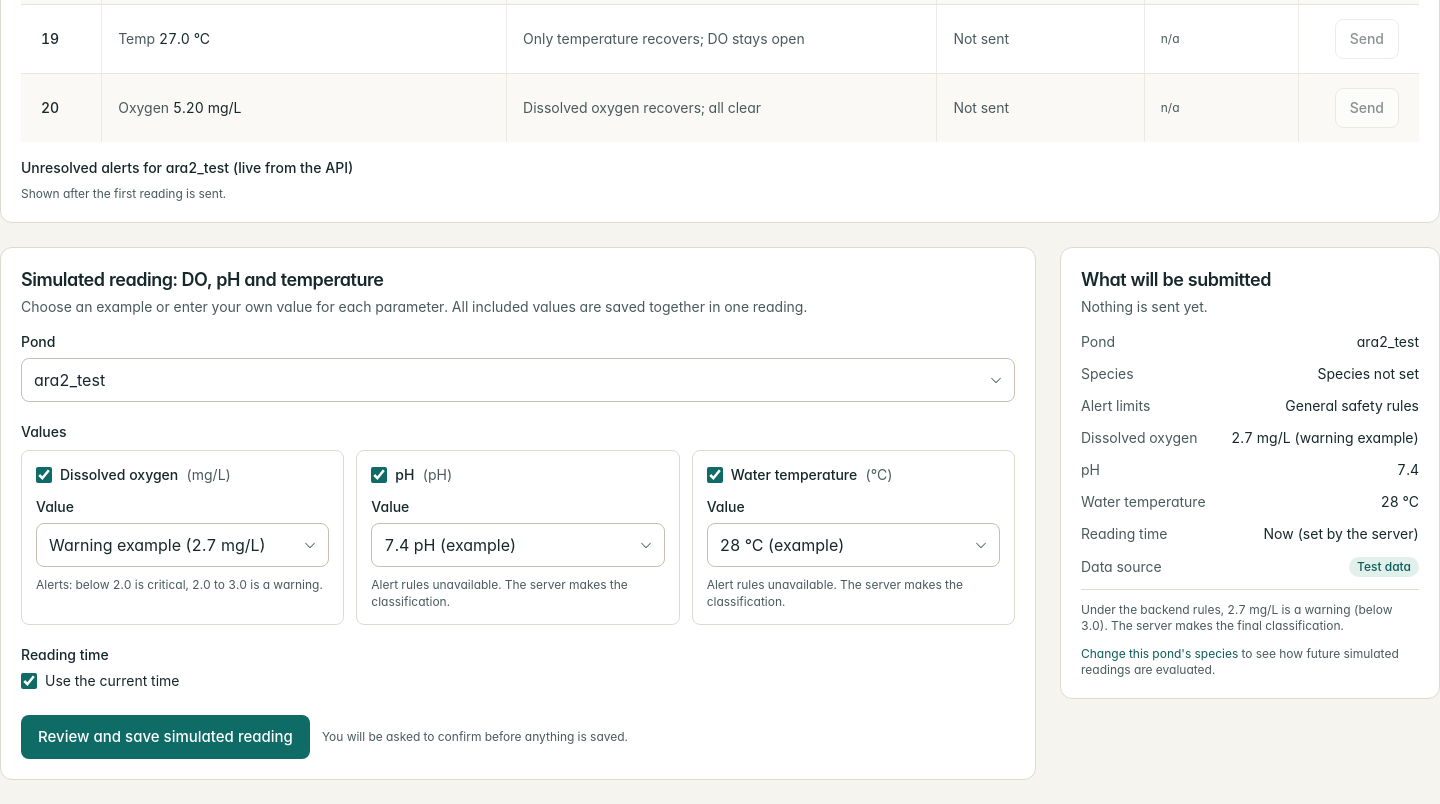
simulation: one reading, three parameters › shows the server's validation errors (HTTP 422) when it rejects a request
(page scrolled)
Expected: the heading "Simulated reading: DO, pH and temperature" is shown, 21,269 -> 384,290
Step 1. Click the button "Review and save simulated reading" → coordinates (165, 737), box 21,715 -> 310,759
(page scrolled)
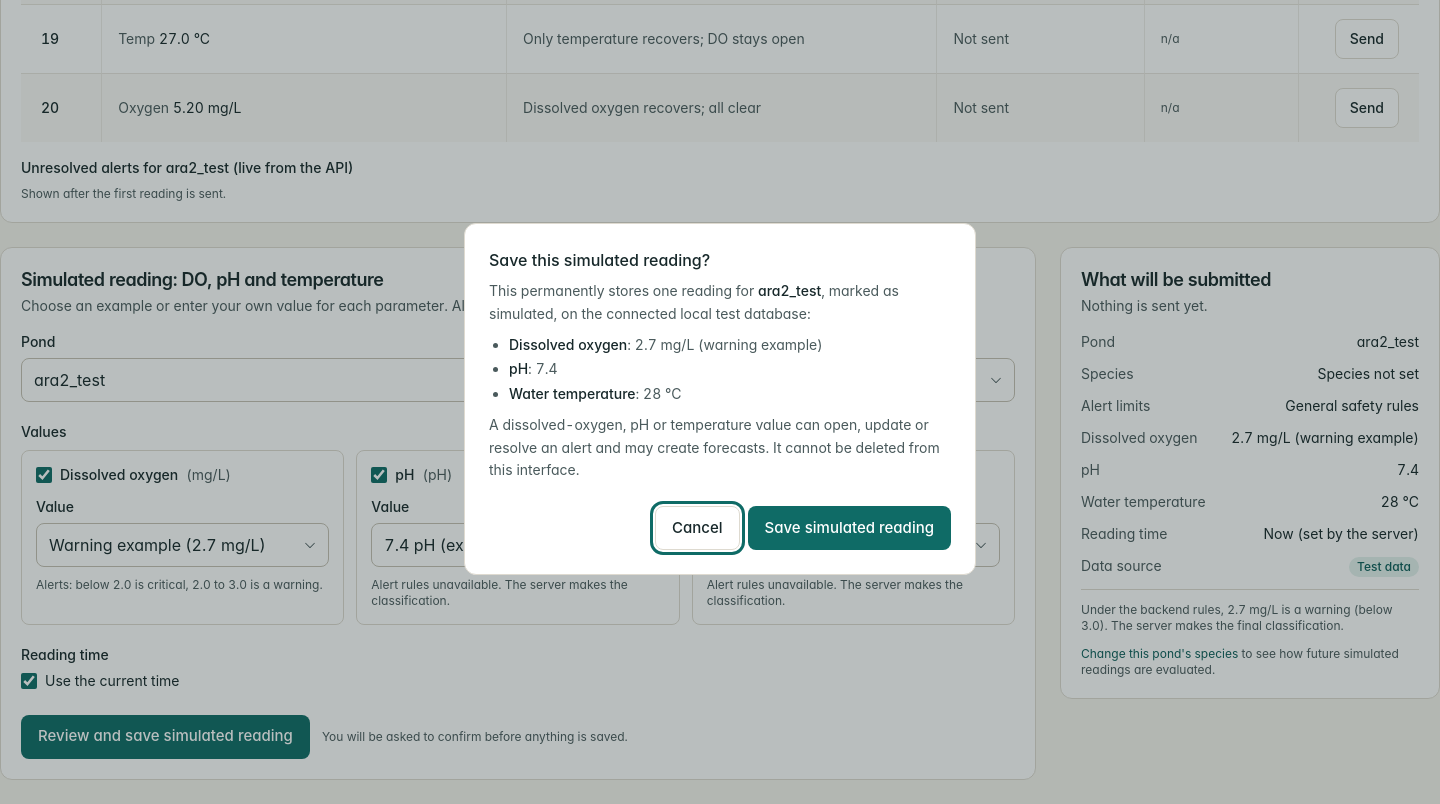
Step 2. Click the button "Save simulated reading" → coordinates (849, 528), box 748,506 -> 951,550
(page scrolled)
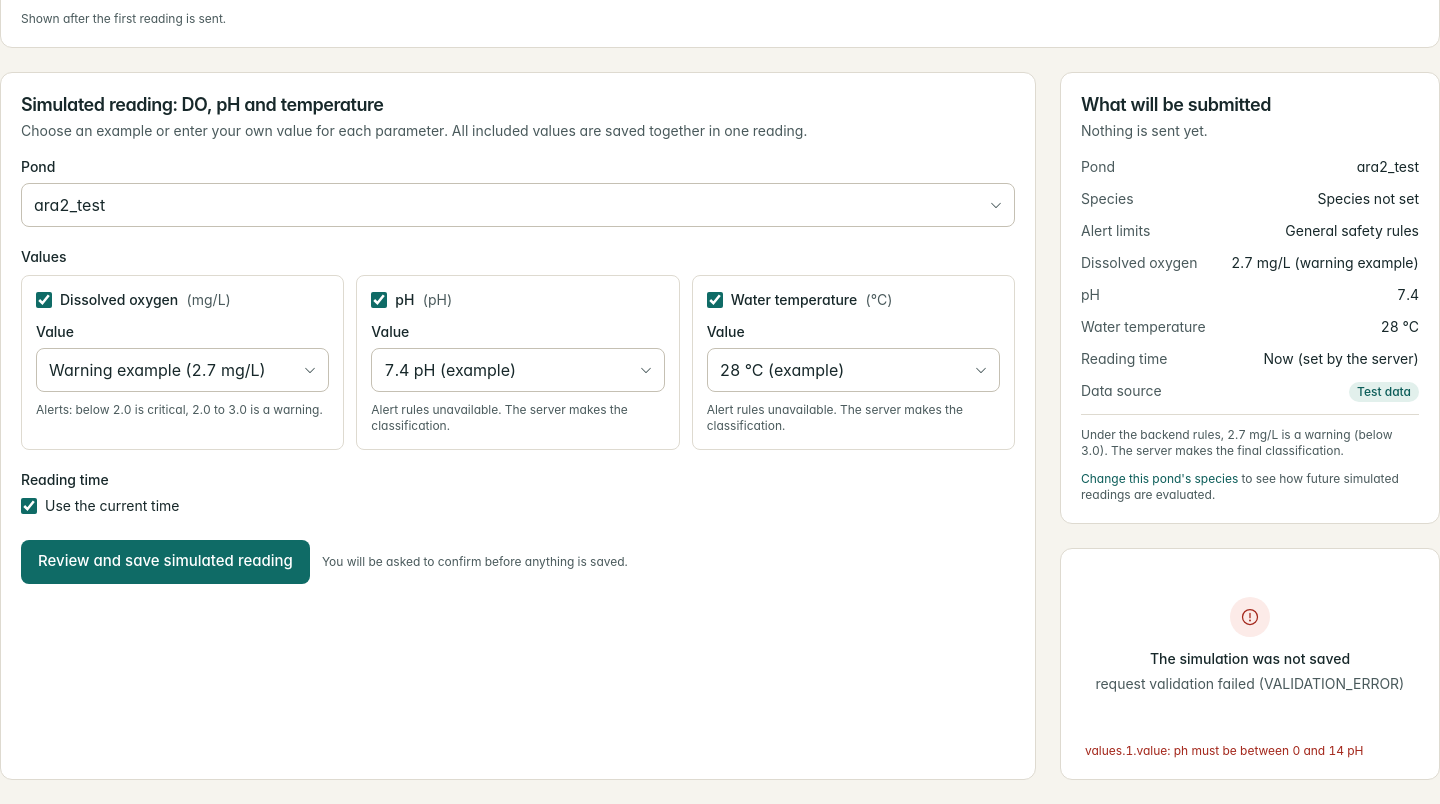
Result: the text "The simulation was not saved" is shown at 1150,648 -> 1350,668
Result: the text "request validation failed (VALIDATION_ERROR)" is shown at 1095,672 -> 1405,695
Result: the list item "values.1.value: ph must be between 0 and 14 pH" is shown at 1085,743 -> 1364,758
